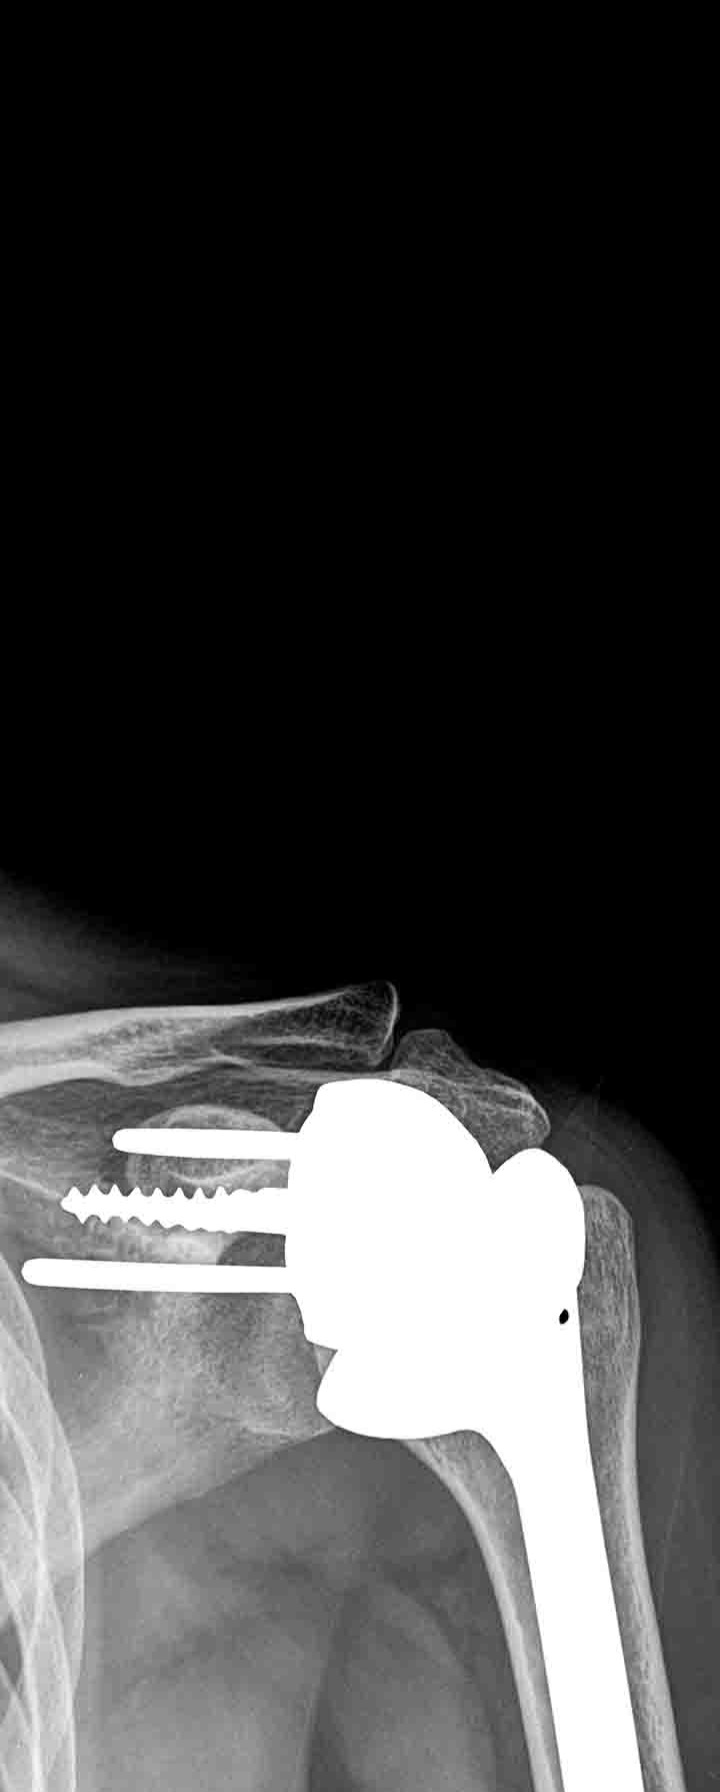Shoulder-Reverse-DJO: (11, 1038, 651, 1792)
